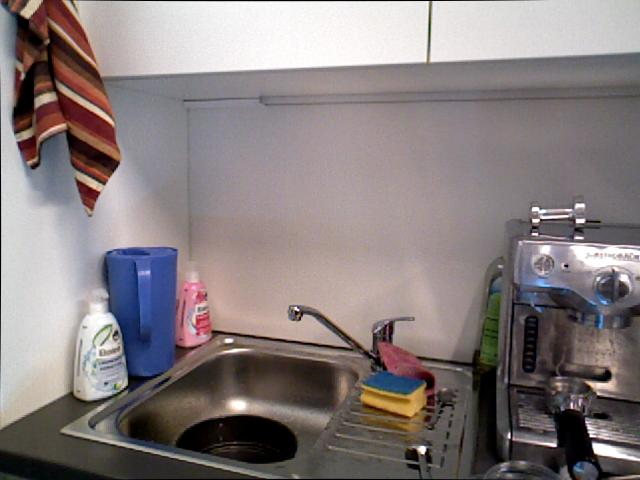bench: (74, 286, 130, 402), (475, 252, 516, 377), (176, 259, 214, 344)
couch: (61, 334, 378, 477)
handbag: (104, 241, 179, 376)
toilet: (401, 429, 435, 480), (428, 386, 457, 428)
